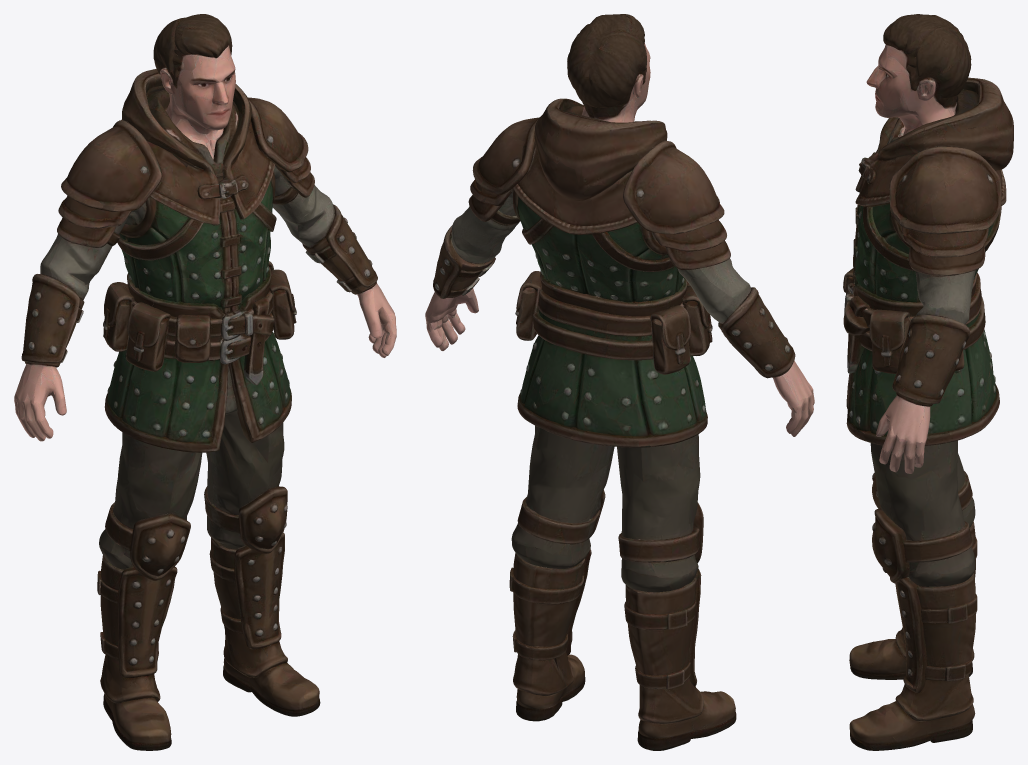
Rendered from leather_ranger.glb.
3 views of the same model, side by side, from view 1: azimuth 30°, elevation 25°; view 2: azimuth 150°, elevation 25°; view 3: azimuth 270°, elevation 25° (orthographic).
Parts seen in each view (by area): view 1: Mesh_0; view 2: Mesh_0; view 3: Mesh_0.
Part boxes in pixels (x1,y1,x2,y2): Mesh_0: (14,14,396,750); Mesh_0: (425,14,814,750); Mesh_0: (843,14,1013,750).
Size of the model in its own units: 1.08 by 1.9 by 0.4276.
1 material, 1 textured.
